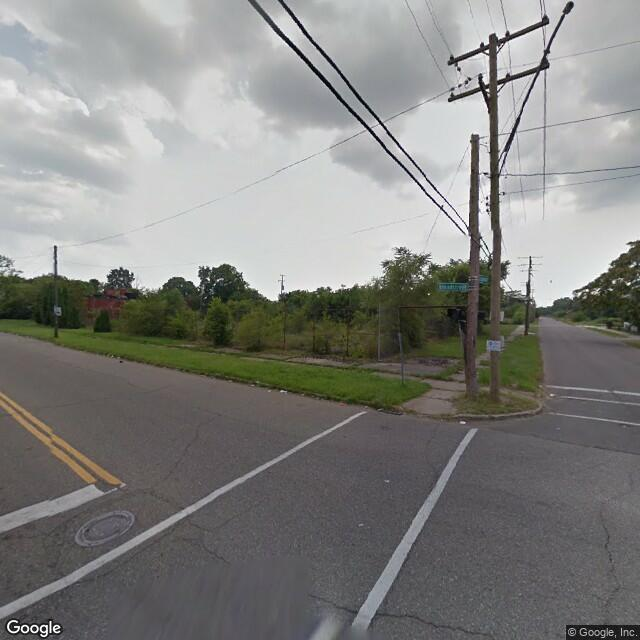litter: (458, 418, 467, 426), (549, 392, 557, 400), (297, 389, 305, 397), (279, 387, 287, 394), (250, 381, 255, 391), (363, 403, 367, 409), (267, 388, 272, 392), (119, 359, 124, 363), (378, 406, 382, 411), (229, 378, 232, 383)
